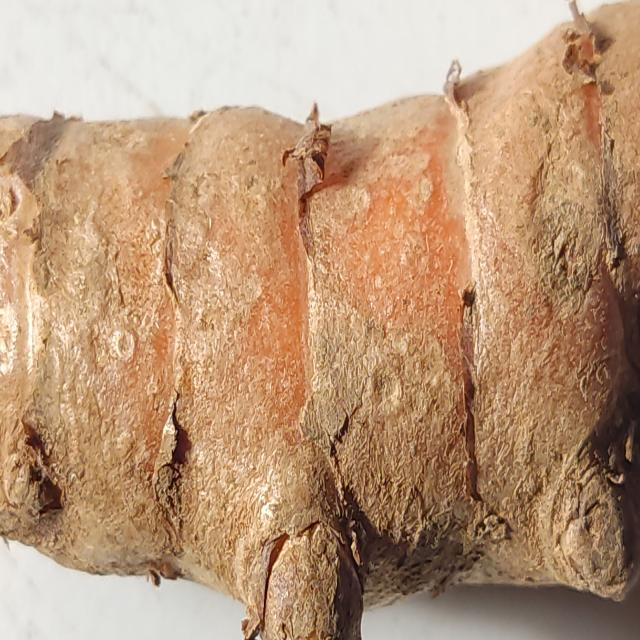ginger: (5, 86, 640, 586)
